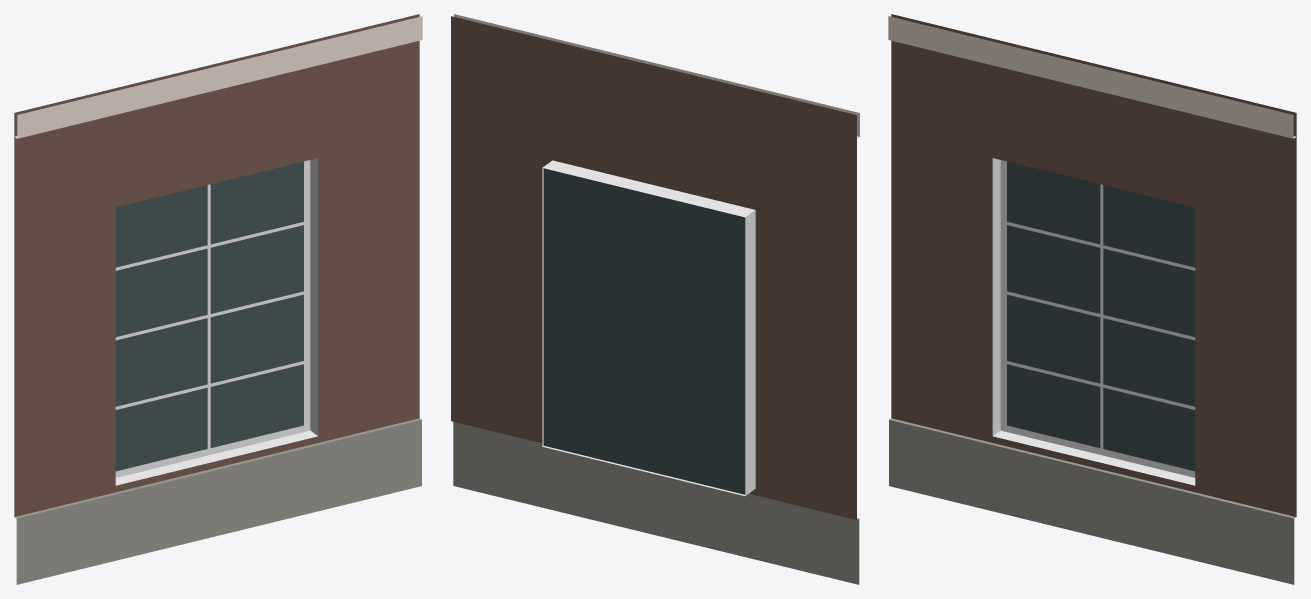
3 views of the same model, side by side, from view 1: azimuth 30°, elevation 25°; view 2: azimuth 150°, elevation 25°; view 3: azimuth 330°, elevation 25° (orthographic).
Visible parts, largest first — view 1: a2000s3/600/base-w3; view 2: a2000s3/600/base-w3; view 3: a2000s3/600/base-w3.
Boxes of the visible parts, x1,y1,x2,y2 form: a2000s3/600/base-w3: (14,14,422,584); a2000s3/600/base-w3: (451,14,859,584); a2000s3/600/base-w3: (888,14,1296,584).
Bounding box in the file's own units: 3.2 × 3.55 × 0.18.
